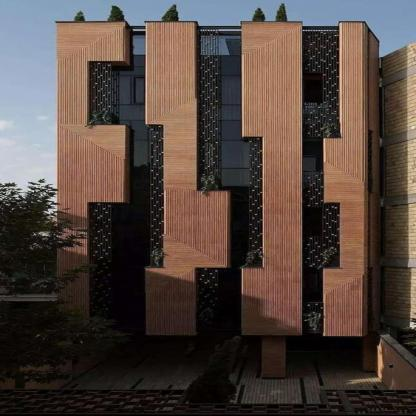Balcony: (302, 105, 340, 138), (303, 237, 340, 268), (303, 171, 324, 207), (303, 302, 322, 333)
Building Outline: (55, 21, 380, 379)
Dont: (0, 178, 135, 389), (181, 335, 242, 404)
Door Hole: (57, 336, 261, 380), (285, 336, 362, 380)
Facade: (57, 32, 362, 380)
Floor: (57, 31, 362, 134), (57, 138, 362, 203), (57, 268, 362, 329), (57, 207, 362, 264)
Floor Slab: (57, 134, 362, 138), (57, 204, 362, 208), (57, 264, 362, 268), (57, 329, 362, 333)
Ground Floor: (57, 333, 362, 379)
Pillar: (262, 336, 285, 380)
Window: (89, 34, 163, 330), (195, 35, 262, 330), (302, 34, 340, 333)
